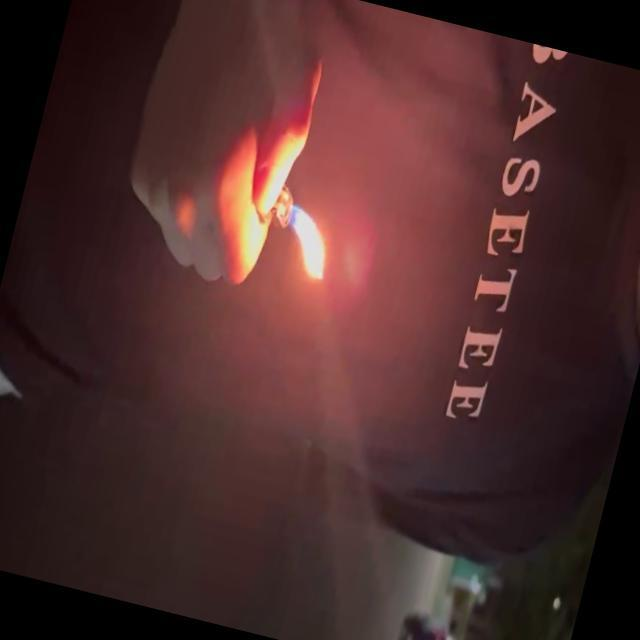Fire: (269, 204, 339, 288)
